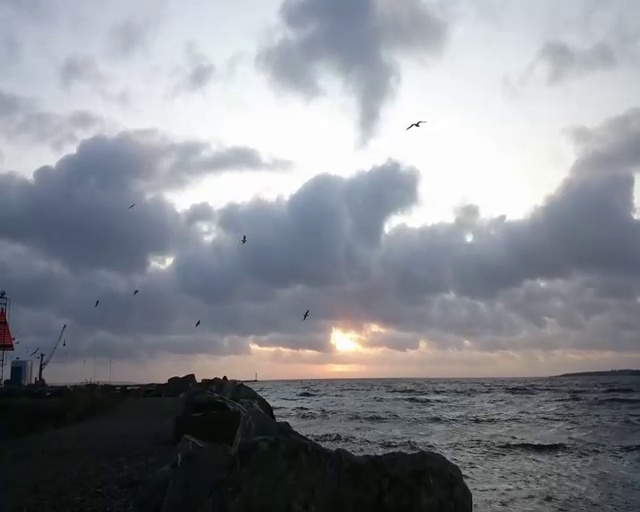BIRD: (406, 120, 427, 130)
